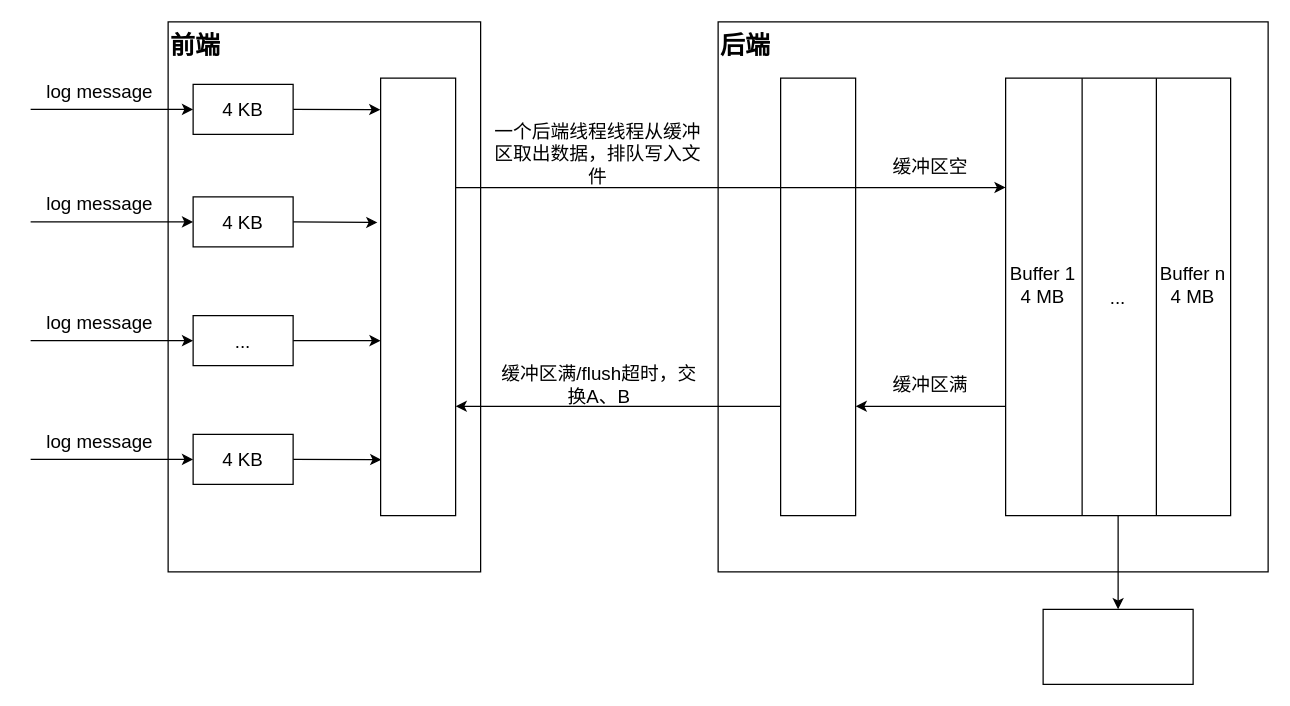
The diagram is 1290 pixels wide and 706 high, and some of its shapes have lost their labels. The centre of each missing label's shape, as x and y in pixels:
"Buffer A 4 MB" belongs at (417,296).
"Buffer B 4 MB" belongs at (817,296).
"文件 （Disk/Terminal）" belongs at (1117,646).
